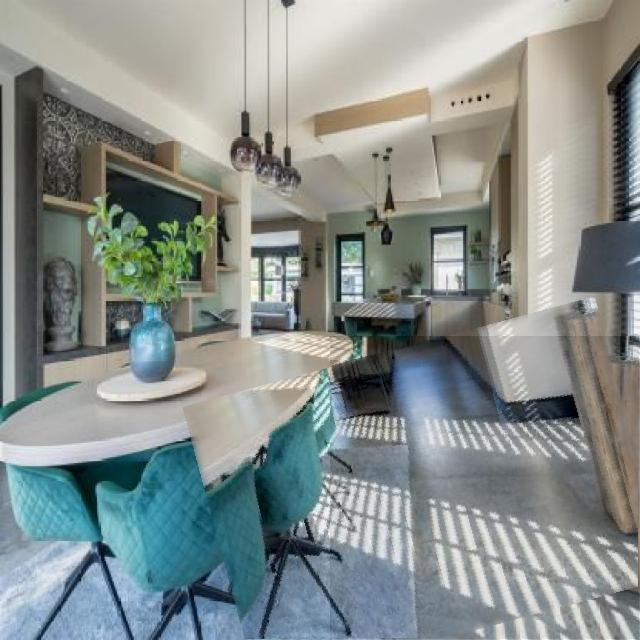floor: (333, 337, 639, 639)
